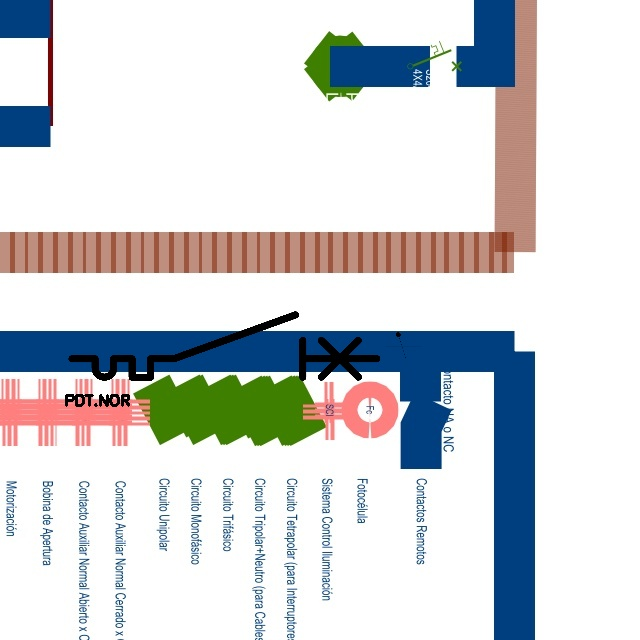interruptor_termomagnetico: (64, 307, 385, 385)
